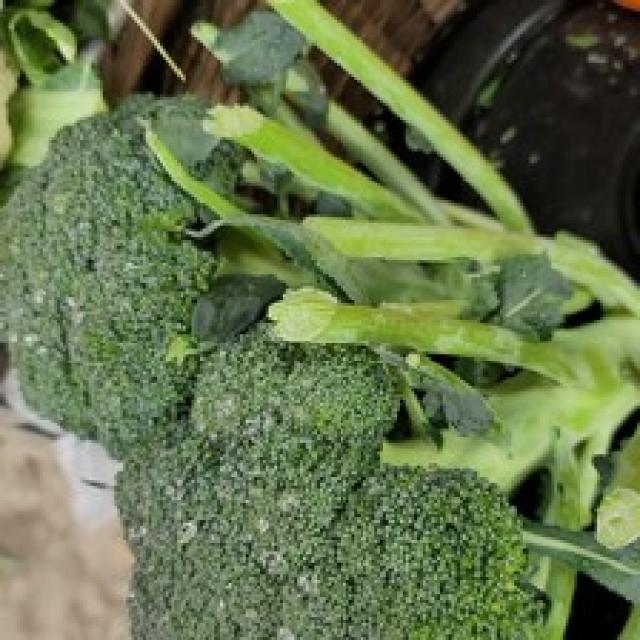Broccoli: (0, 100, 542, 639), (6, 103, 542, 639)
